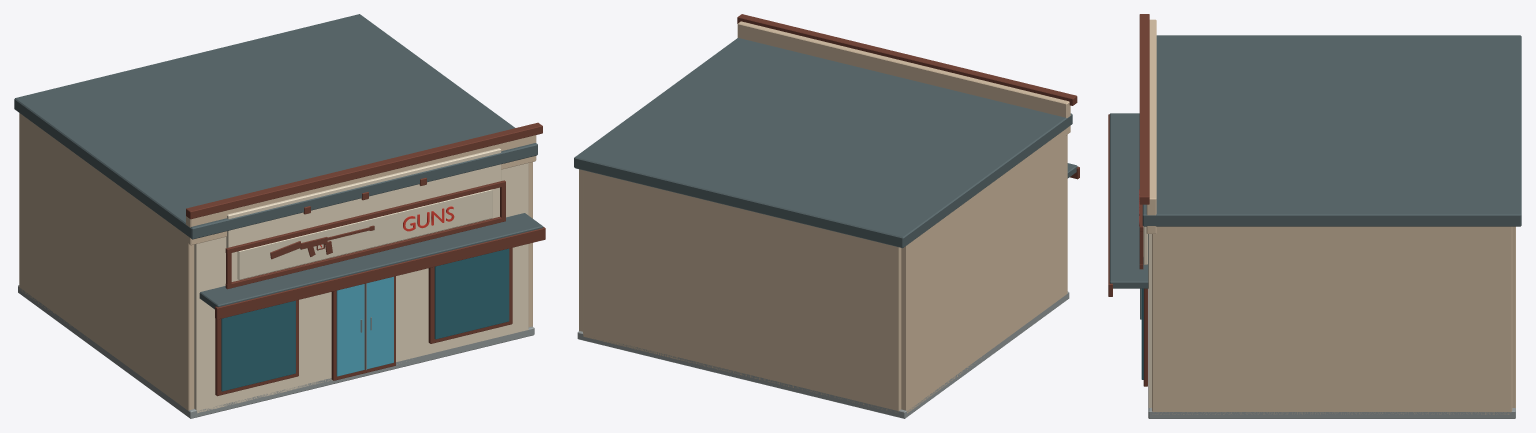
Rendered from GunStore.glb.
The picture shows the model from 3 angles, left to right: view 1: azimuth 30°, elevation 25°; view 2: azimuth 150°, elevation 25°; view 3: azimuth 270°, elevation 25°; orthographic projection. The views are drawn at different scales.
Visible parts, largest first — view 1: FTF_Building_FarmTown_GunStore_9x8m_Mesh; view 2: FTF_Building_FarmTown_GunStore_9x8m_Mesh; view 3: FTF_Building_FarmTown_GunStore_9x8m_Mesh.
Part boxes in pixels (<box>): FTF_Building_FarmTown_GunStore_9x8m_Mesh: <box>14,14,545,418</box>; FTF_Building_FarmTown_GunStore_9x8m_Mesh: <box>574,14,1079,418</box>; FTF_Building_FarmTown_GunStore_9x8m_Mesh: <box>1108,14,1521,418</box>.
Size of the model in its own units: 9.42 by 5.4 by 9.
